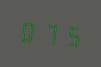five: (61, 20, 81, 49)
seven: (40, 19, 60, 47)
zero: (18, 17, 38, 45)
